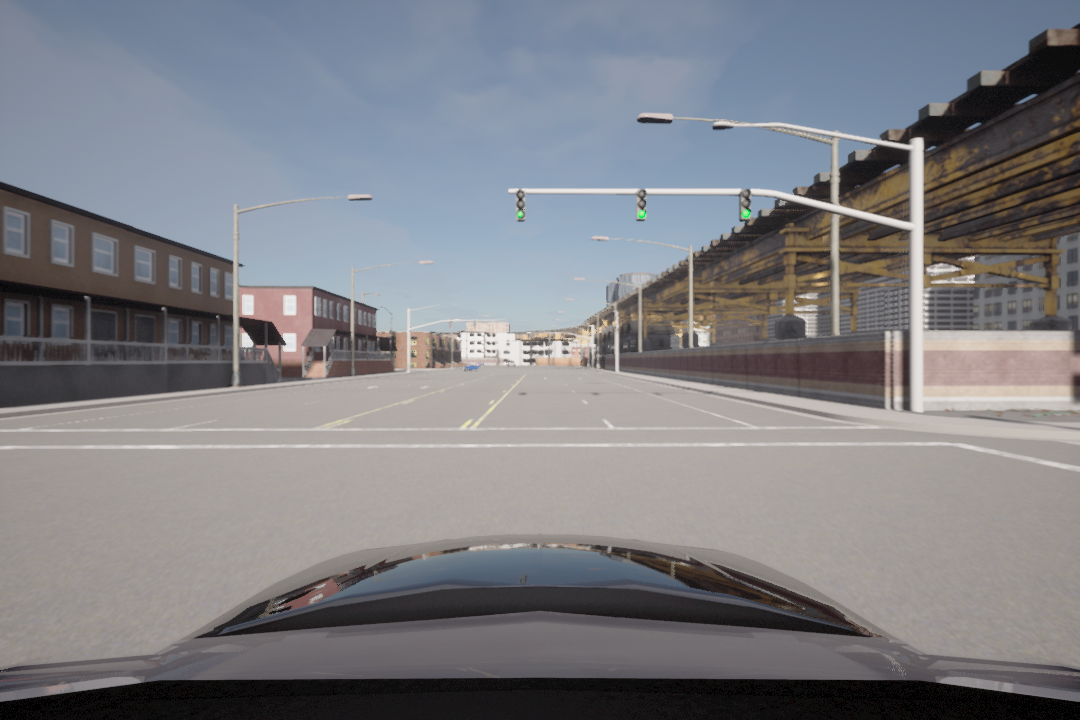TrafficLight: (737, 188, 754, 224), (633, 188, 649, 222), (514, 191, 528, 221)
